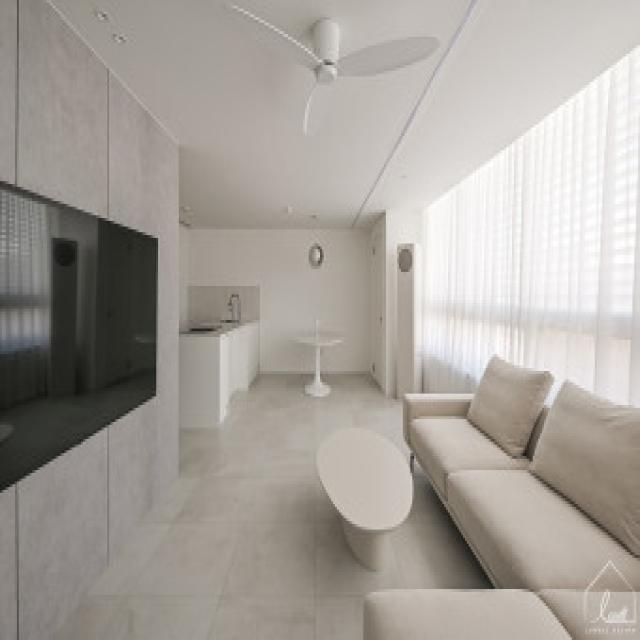Sofa: (399, 354, 640, 640)
Table: (313, 416, 413, 566), (288, 323, 347, 398)
tv: (2, 180, 158, 478)
window: (433, 176, 640, 351)
